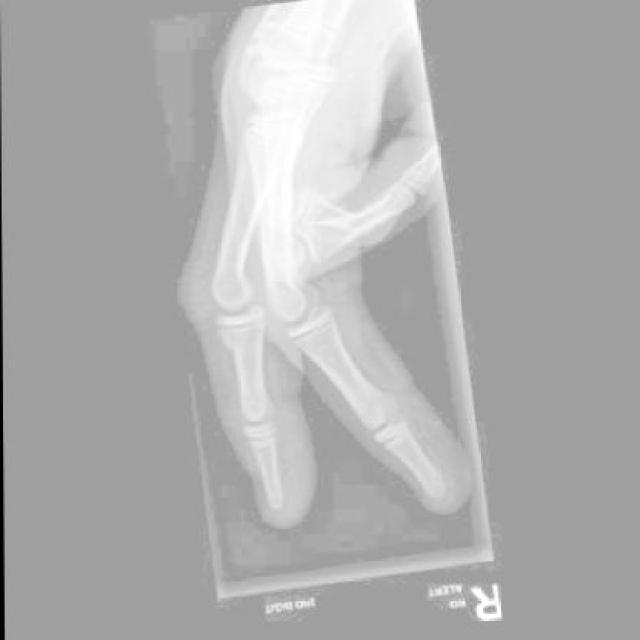Fracture: (213, 322, 244, 356)
